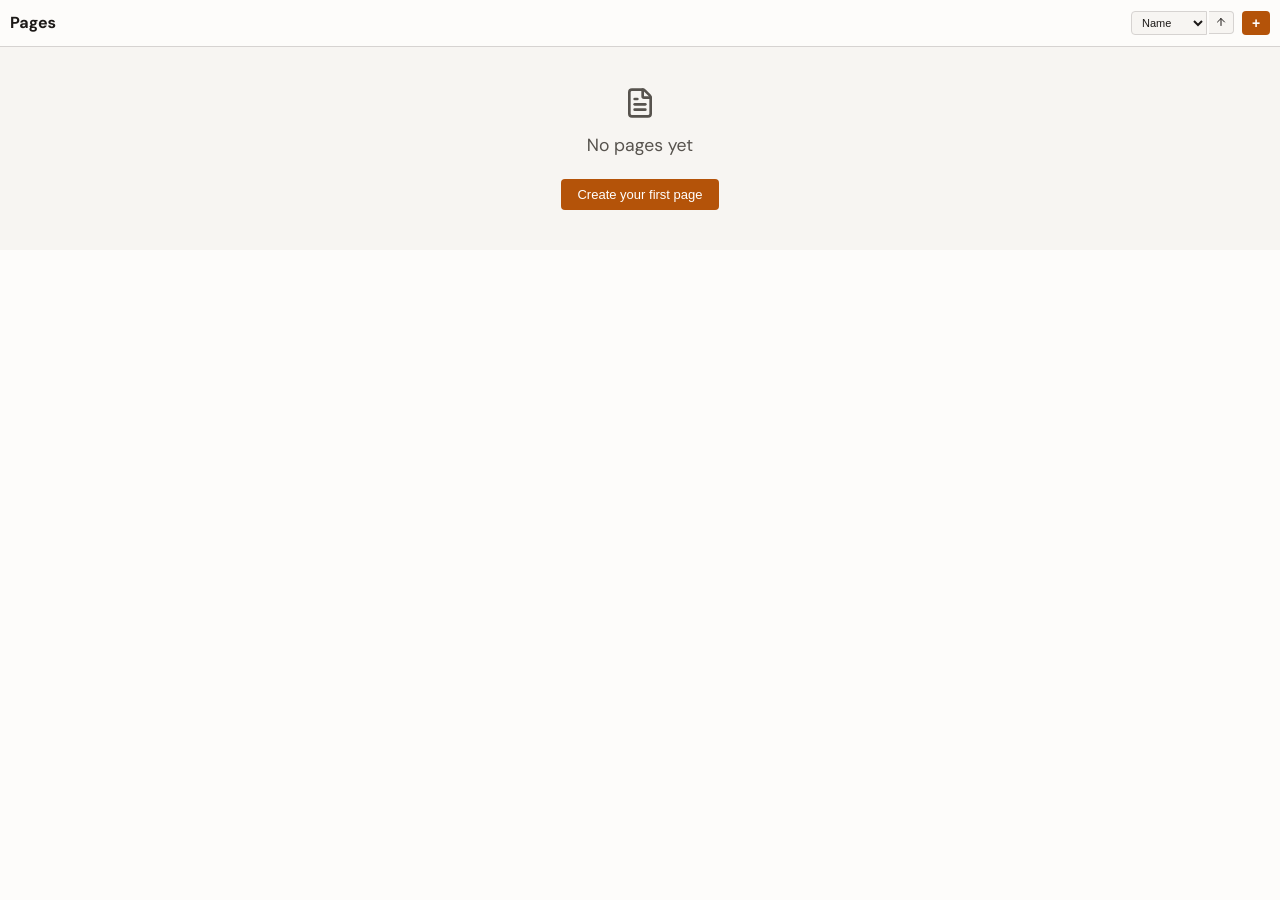
Test: PageList › opens template picker when clicking +
Click the button named "create new page".
click(1256, 23)  # box [1242, 11, 1270, 35]
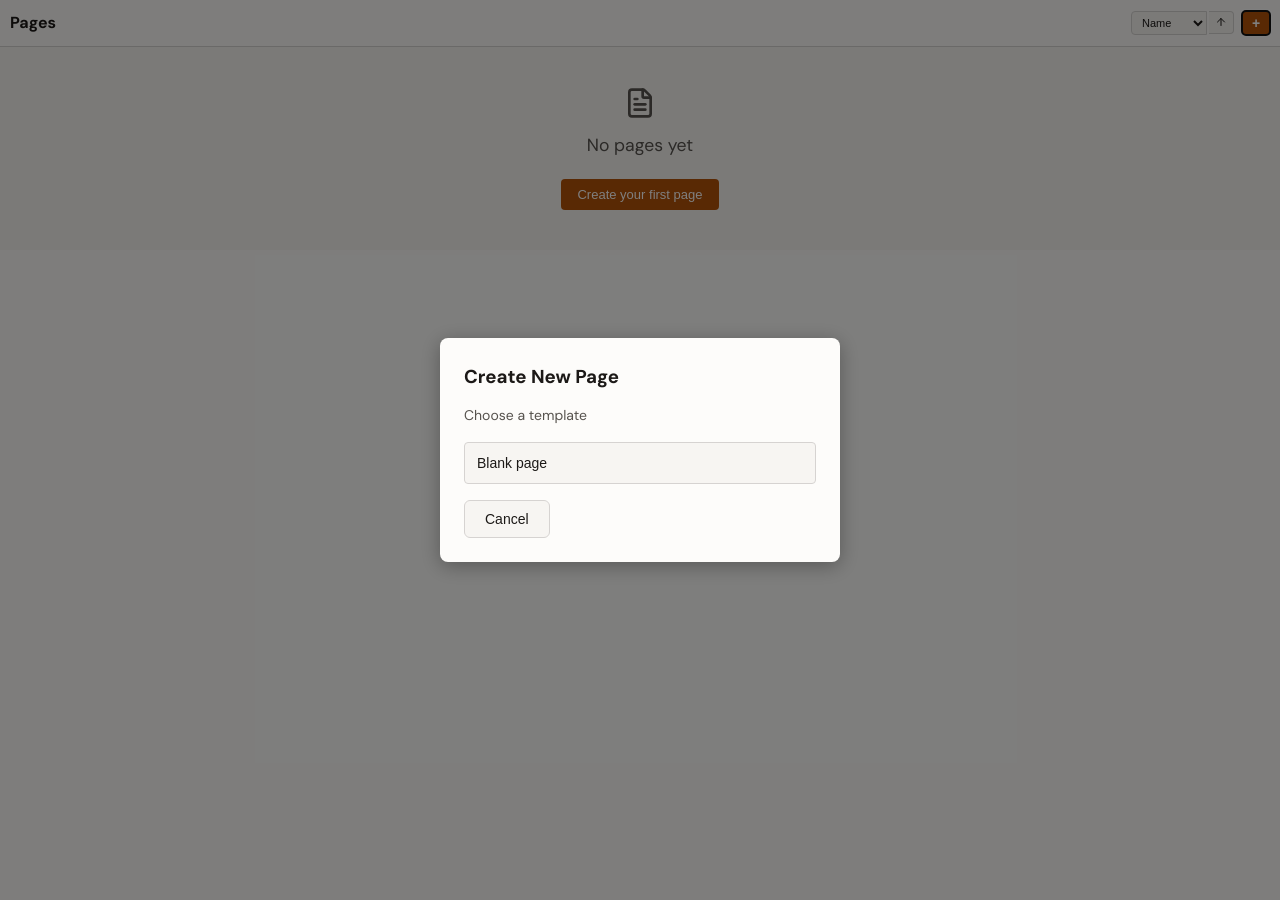
Expected: the dialog named "create page from template" is shown
Expected: the button "Blank page" is shown, [464, 442, 816, 484]
